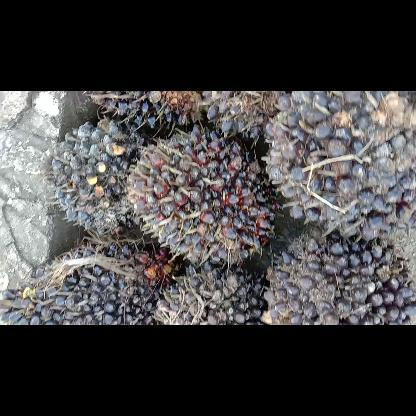TBS mentah: (262, 91, 414, 245), (122, 124, 282, 268), (0, 232, 186, 324), (261, 230, 415, 324), (44, 117, 148, 239), (150, 258, 274, 324)
